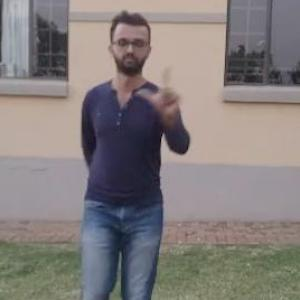land_hand: (135, 59, 183, 123)
